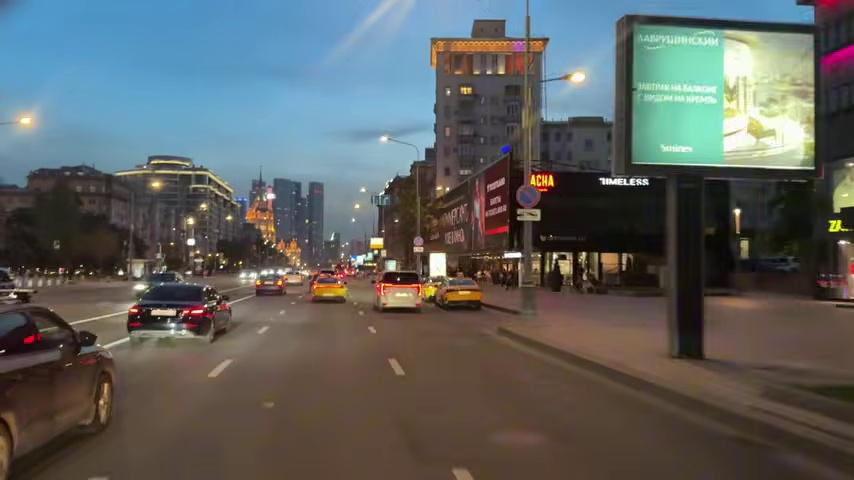acesa: (15, 111, 36, 130), (567, 69, 587, 87), (377, 134, 391, 146)
